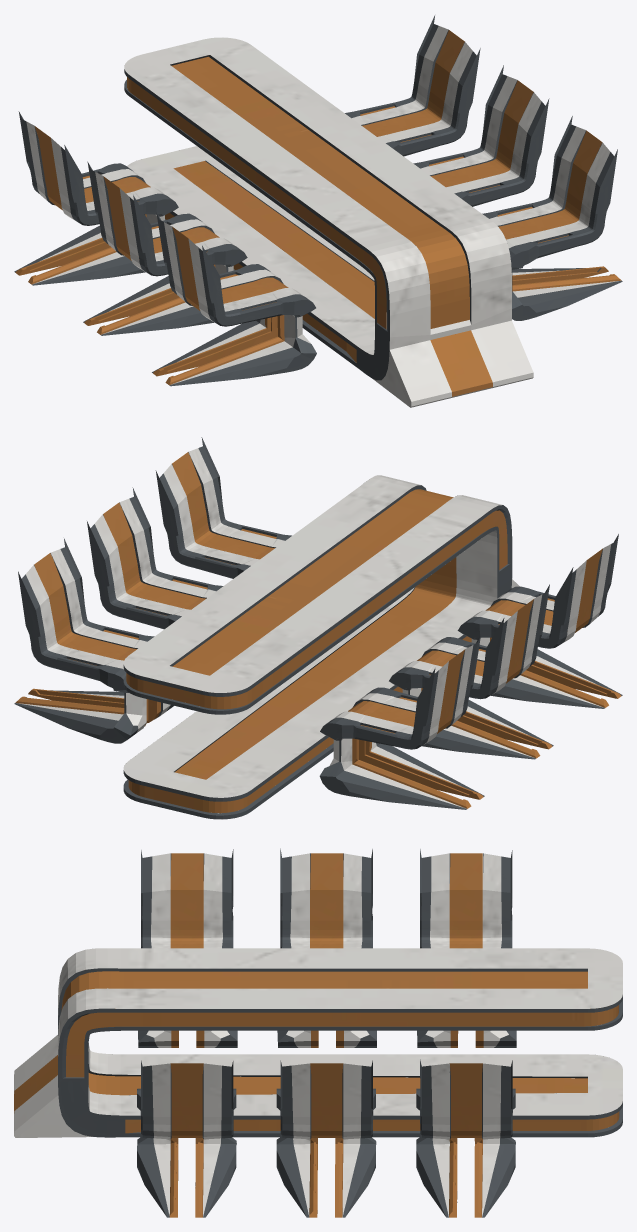
File: table-chairs.glb
The picture shows the model from 3 angles, top to bottom: view 1: azimuth 30°, elevation 25°; view 2: azimuth 150°, elevation 25°; view 3: azimuth 270°, elevation 25°; orthographic projection.
Visible parts, largest first — view 1: Object_6, Object_5, Object_4; view 2: Object_6, Object_5, Object_4; view 3: Object_6, Object_5, Object_4.
Boxes of the visible parts, x1,y1,x2,y2 form: Object_6: (26, 26, 620, 407); Object_5: (15, 30, 621, 396); Object_4: (14, 15, 622, 386); Object_6: (19, 448, 611, 819); Object_5: (15, 452, 621, 813); Object_4: (14, 437, 622, 819); Object_6: (14, 853, 622, 1217); Object_5: (14, 853, 619, 1217); Object_4: (58, 848, 622, 1217).
Bounding box in the file's own units: 1.52 × 0.495 × 1.75.
Materials: 3 (3 with a texture image).
